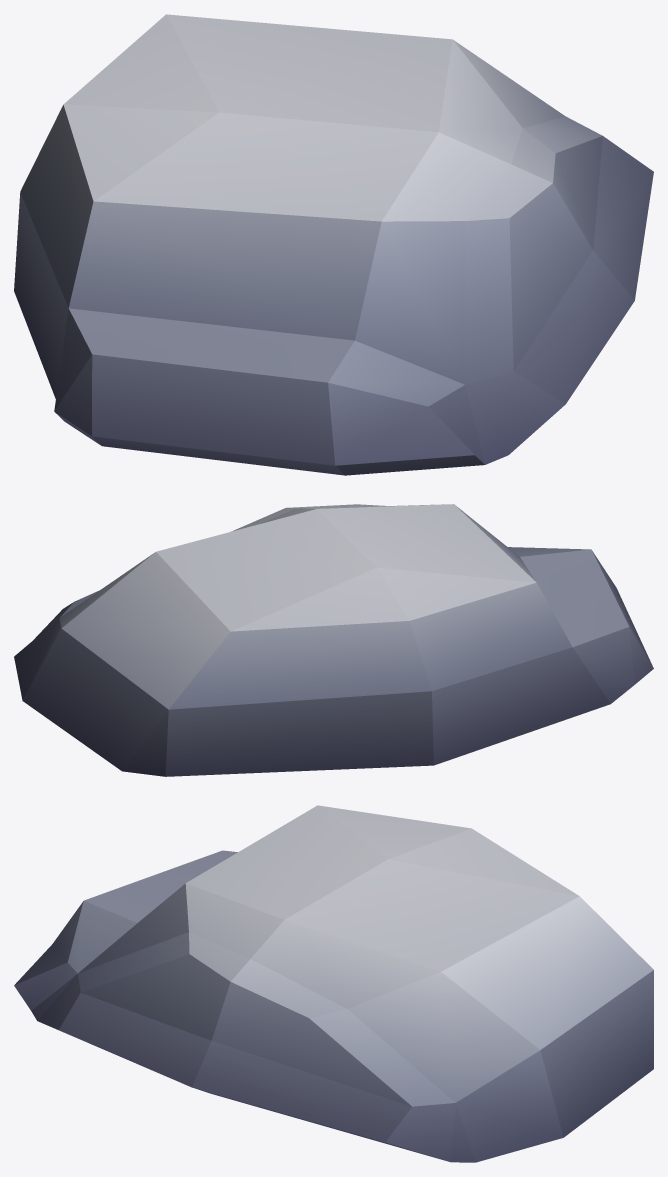
File: TinyRock.fbx
3 views of the same model, one above another, from view 1: azimuth 30°, elevation 25°; view 2: azimuth 150°, elevation 25°; view 3: azimuth 270°, elevation 25° (orthographic). The views are drawn at different scales.
Parts seen in each view (by area): view 1: TinyRock; view 2: TinyRock; view 3: TinyRock.
Boxes of the visible parts, x1,y1,x2,y2 form: TinyRock: [14, 14, 653, 475]; TinyRock: [14, 504, 653, 776]; TinyRock: [14, 805, 653, 1162].
Size of the model in its own units: 0.2135 by 0.0621 by 0.2241.
